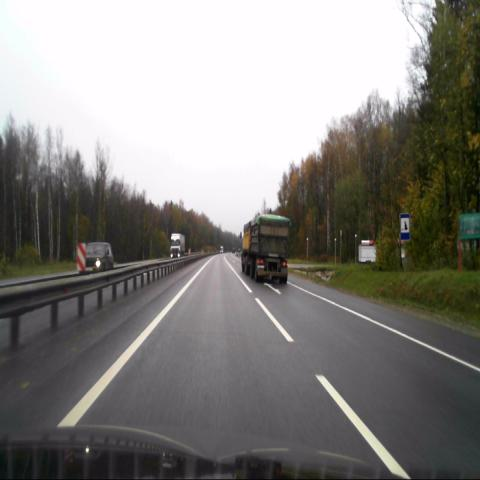7_11: (400, 214, 410, 240)
